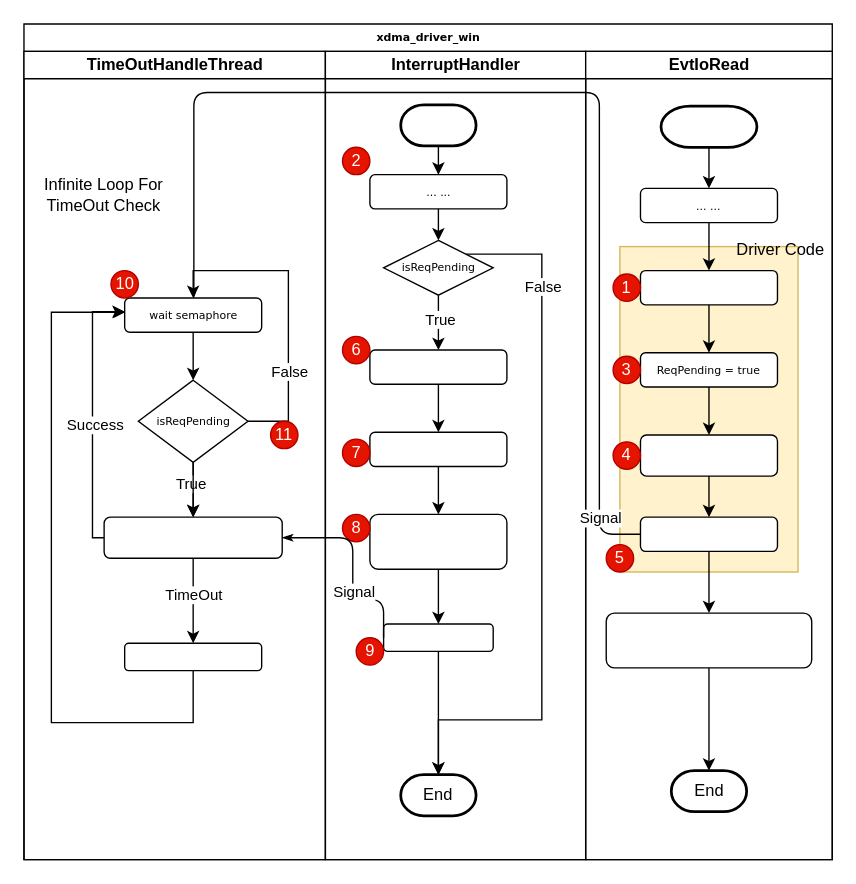
The diagram is 856 pixels wide and 884 high, and some of its shapes have lost their labels. The shapes that lost their labels are listed below. From the top down, each one's centre as x and y in pixels, then its label:
[438,125]: Start
[708,126]: ReadFile
[708,287]: SetDescriptors
[438,366]: read status register
[438,448]: ReqPending = False
[708,455]: StartEngine By Set Control Register
[192,537]: wait completionWaitSignal
[438,541]: complete transaction whether success or error
[708,533]: ReleaseSemaphore
[192,656]: TimeOutHandler
[437,637]: SetEvent
[708,640]: ... ... wait until WdfRequestComplete is called
